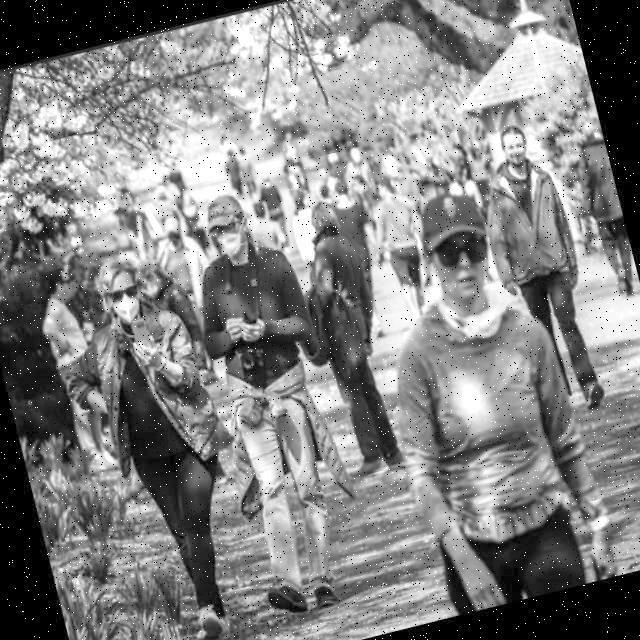no_apron: (449, 520, 521, 612), (586, 502, 626, 596), (228, 312, 264, 359), (125, 335, 163, 367)
no_hairnet: (451, 270, 486, 306), (504, 142, 538, 172)
